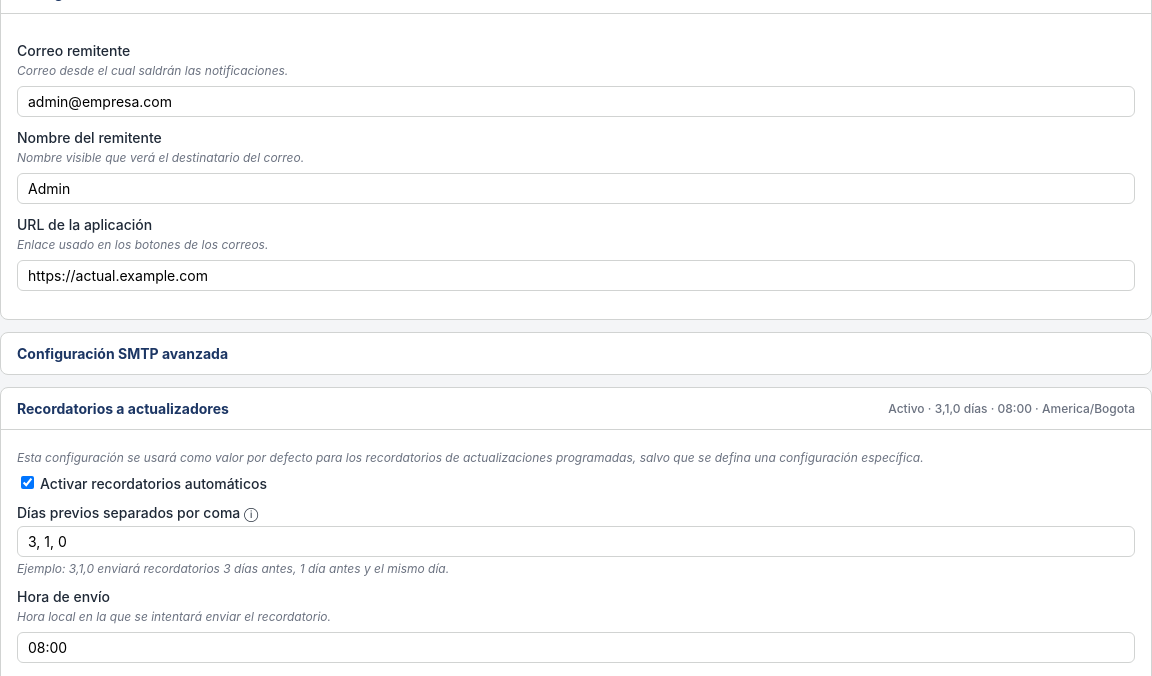
Test: AlertasCorreosPage › la sección SMTP muestra el botón 'Guardar configuración SMTP'
(page scrolled)
Click the heading "Configuración SMTP avanzada" at (122, 354), box [17,345,228,362]
(page scrolled)
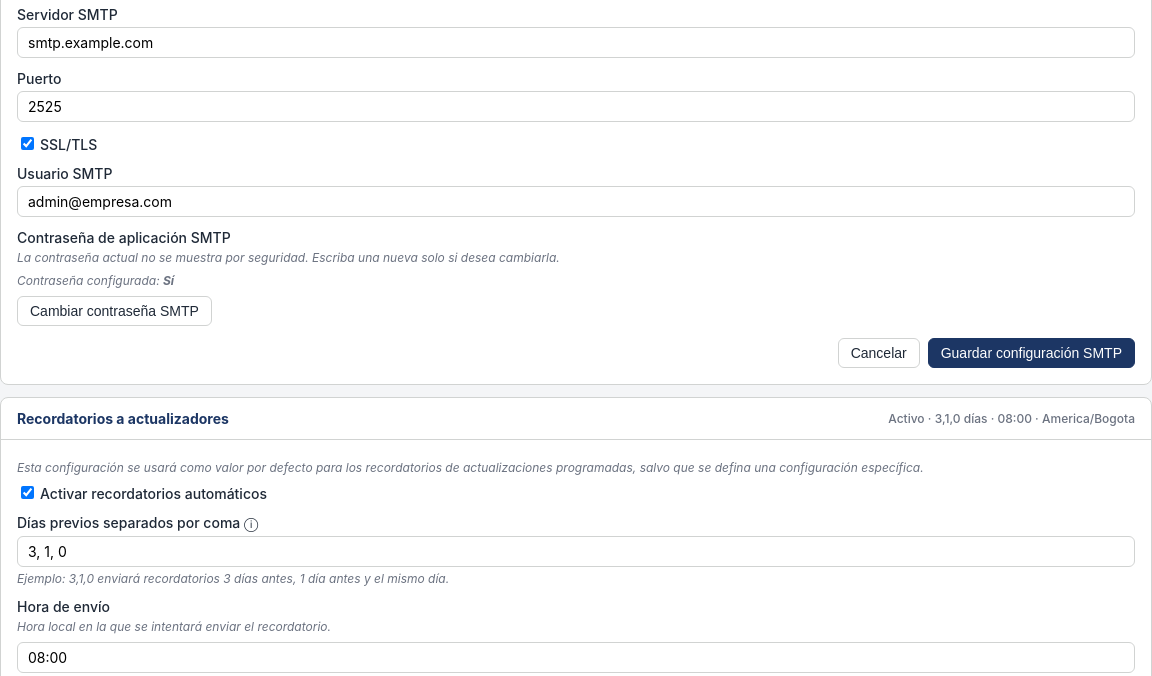
Expected: the button "Guardar configuración SMTP" is shown, [928,338,1135,368]
